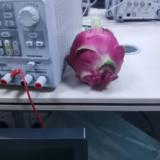pitaya: (68, 19, 125, 88)
